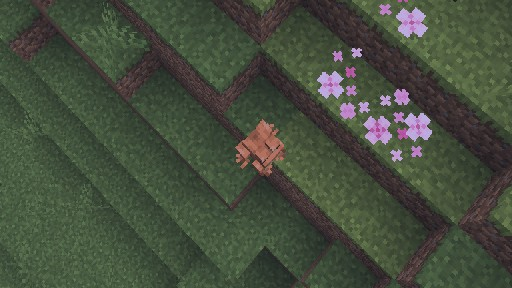frog: (234, 118, 286, 177)
